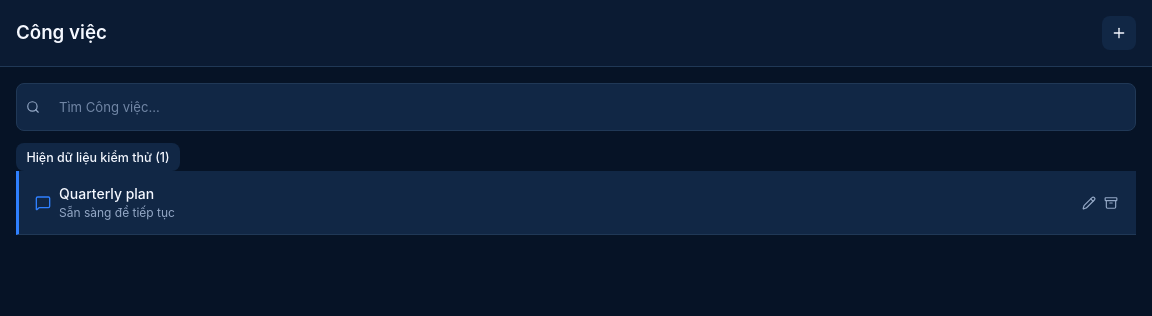
Test case: SessionList › hides marked test work by default and lets users reveal it
Check: the text "UAT-Codex regression" is not shown
Check: the text "Quarterly plan" is shown, box 59,183 -> 154,204
Click the button "Hiện dữ liệu kiểm thử (1)": (98, 157) 16,143 -> 180,171
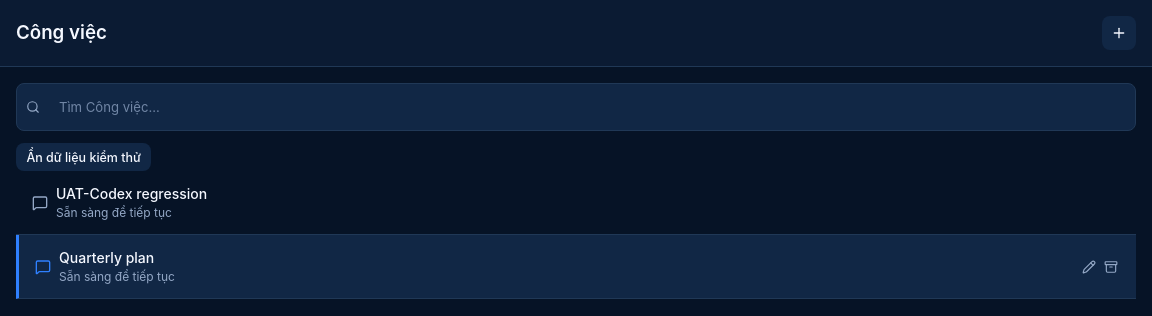
Check: the text "UAT-Codex regression" is shown, box 56,183 -> 207,204
